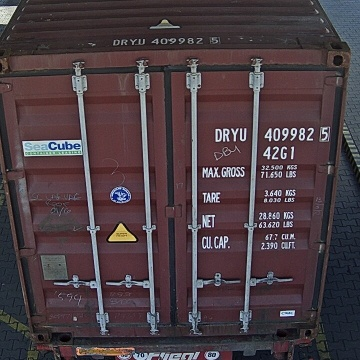serial_id: (215, 126, 330, 141)
